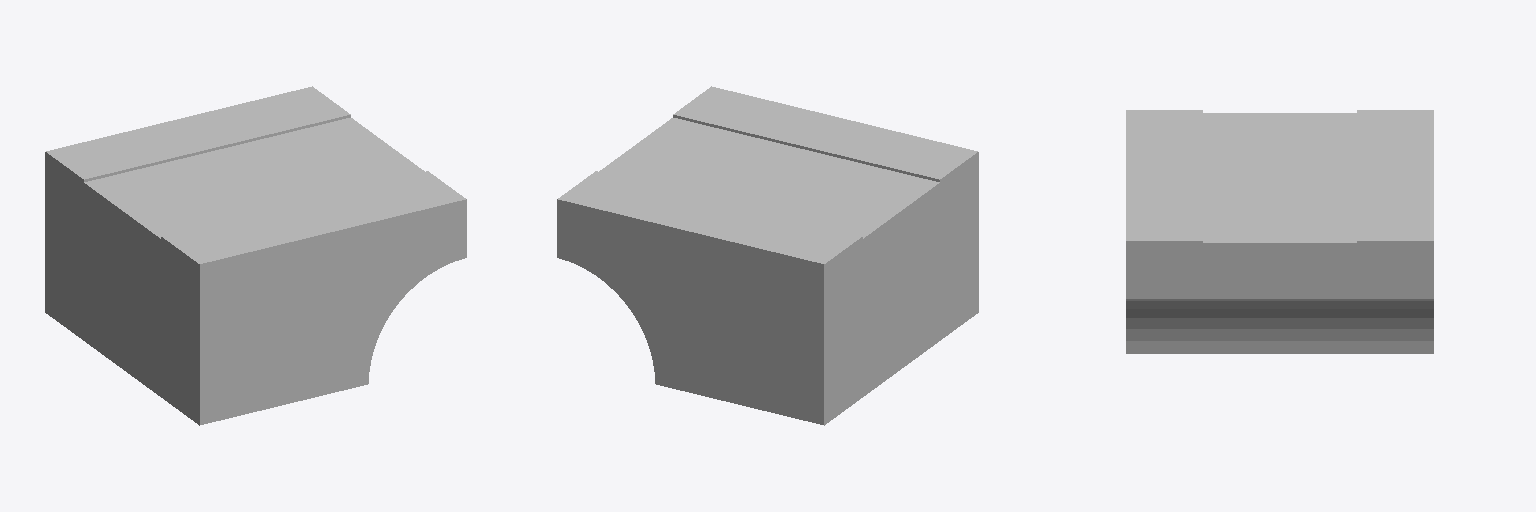
The model's file is tile255.obj.
The picture shows the model from 3 angles: view 1: azimuth 30°, elevation 25°; view 2: azimuth 150°, elevation 25°; view 3: azimuth 270°, elevation 25°; orthographic projection.
Parts seen in each view (by area): view 1: tile255; view 2: tile255; view 3: tile255.
Part boxes in pixels (bbox=[...]): tile255: bbox=[45, 86, 466, 425]; tile255: bbox=[557, 86, 978, 425]; tile255: bbox=[1126, 110, 1433, 353].
Size of the model in its own units: 1 by 0.5767 by 1.